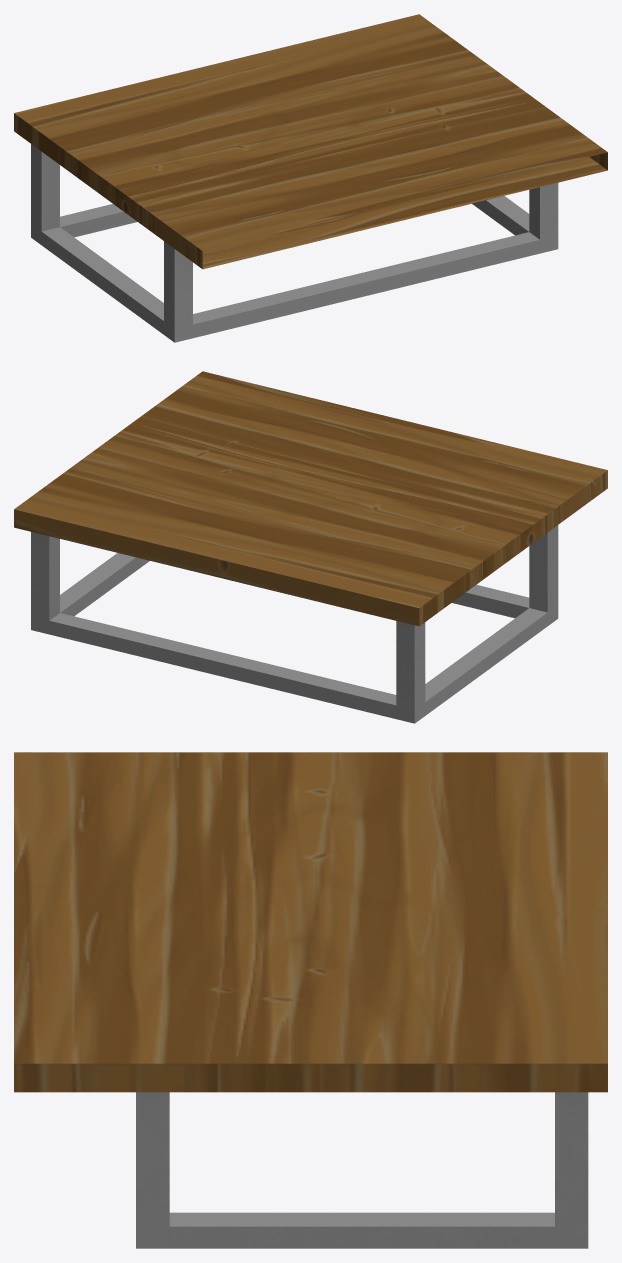
The model's file is shelf.fbx.
3 views of the same model, one above another, from view 1: azimuth 30°, elevation 25°; view 2: azimuth 150°, elevation 25°; view 3: azimuth 270°, elevation 25° (orthographic). The views are drawn at different scales.
Visible parts, largest first — view 1: shelf; view 2: shelf; view 3: shelf.
Boxes of the visible parts, box(x1,y1,x2,y2) form: shelf: box(14, 14, 607, 342); shelf: box(14, 371, 607, 723); shelf: box(14, 752, 607, 1248).
Bounding box in the file's own units: 128 × 37.12 × 104.
1 material, 1 textured.
